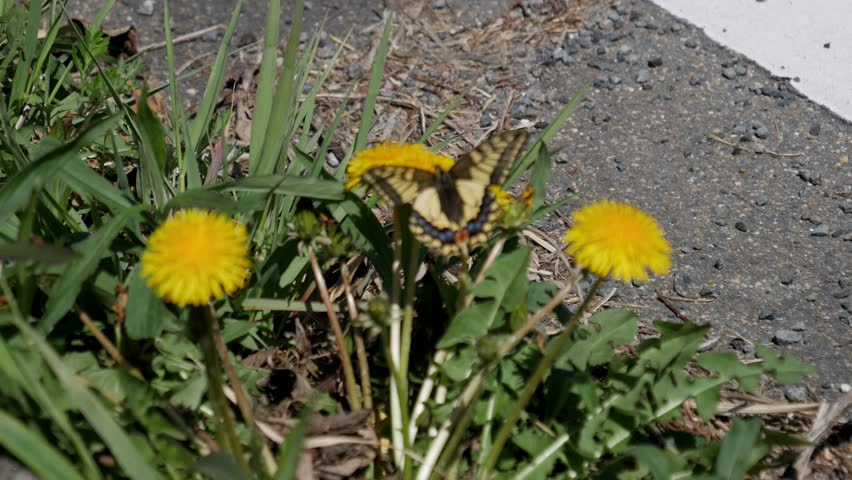dandelion: (565, 197, 671, 300), (134, 211, 256, 298)
